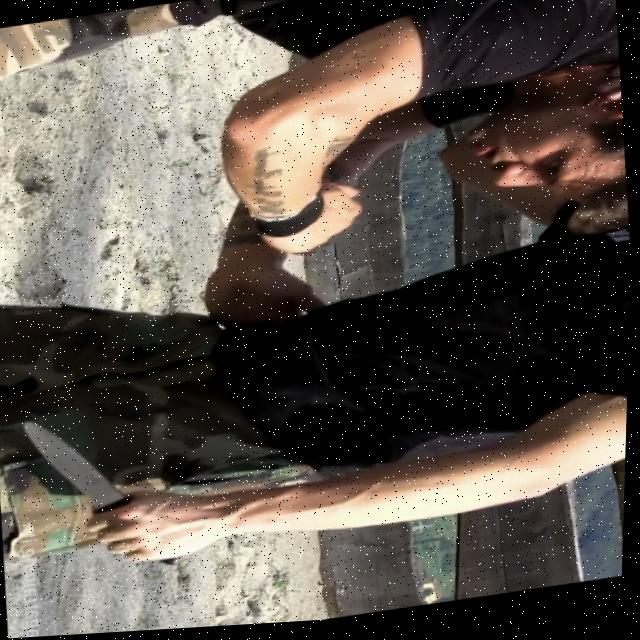knife: (21, 406, 131, 518)
